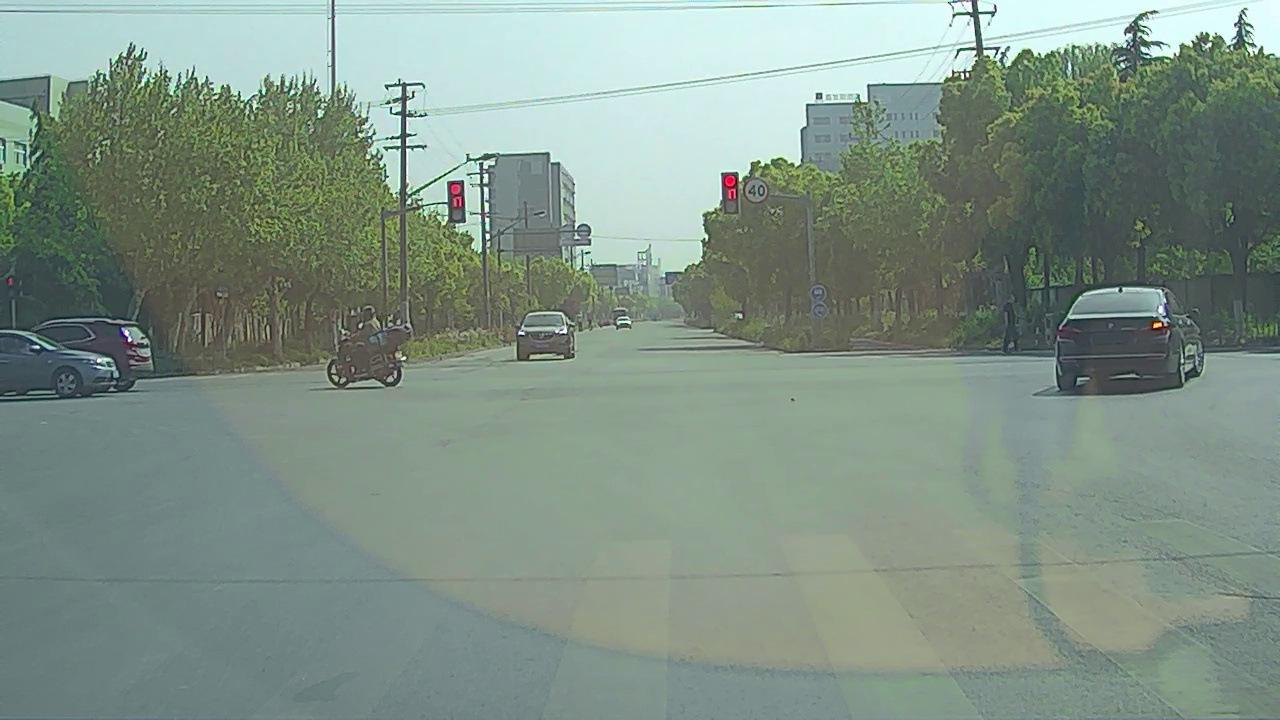traffic_light: (723, 172, 739, 214), (448, 181, 464, 222)
